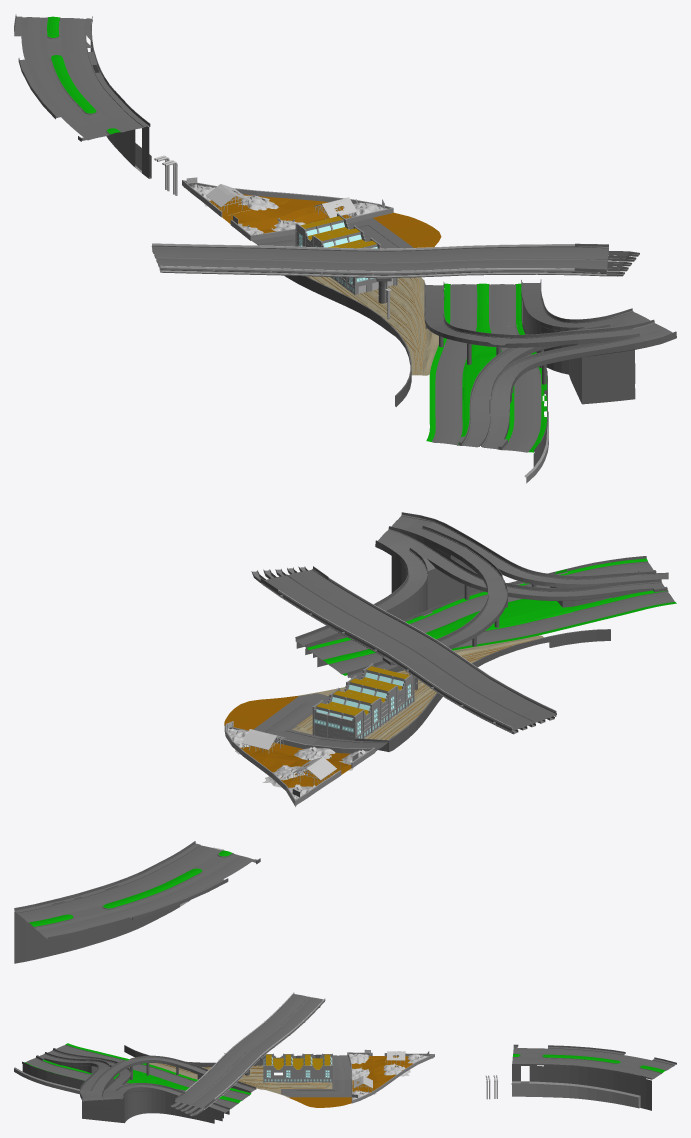
The model's file is brook_s2_15.FBX.
3 renders of one model, top to bottom at view 1: azimuth 30°, elevation 25°; view 2: azimuth 150°, elevation 25°; view 3: azimuth 270°, elevation 25°, orthographic. The views are drawn at different scales.
Visible parts, largest first — view 1: unnamed, null; view 2: unnamed, null; view 3: unnamed, null.
Boxes of the visible parts, x1,y1,x2,y2 form: unnamed: [14, 14, 676, 483]; null: [257, 191, 402, 228]; unnamed: [14, 512, 676, 963]; null: [224, 721, 316, 778]; unnamed: [14, 992, 676, 1123]; null: [343, 1070, 404, 1104].
Bounding box in the file's own units: 215 × 49.45 × 537.
